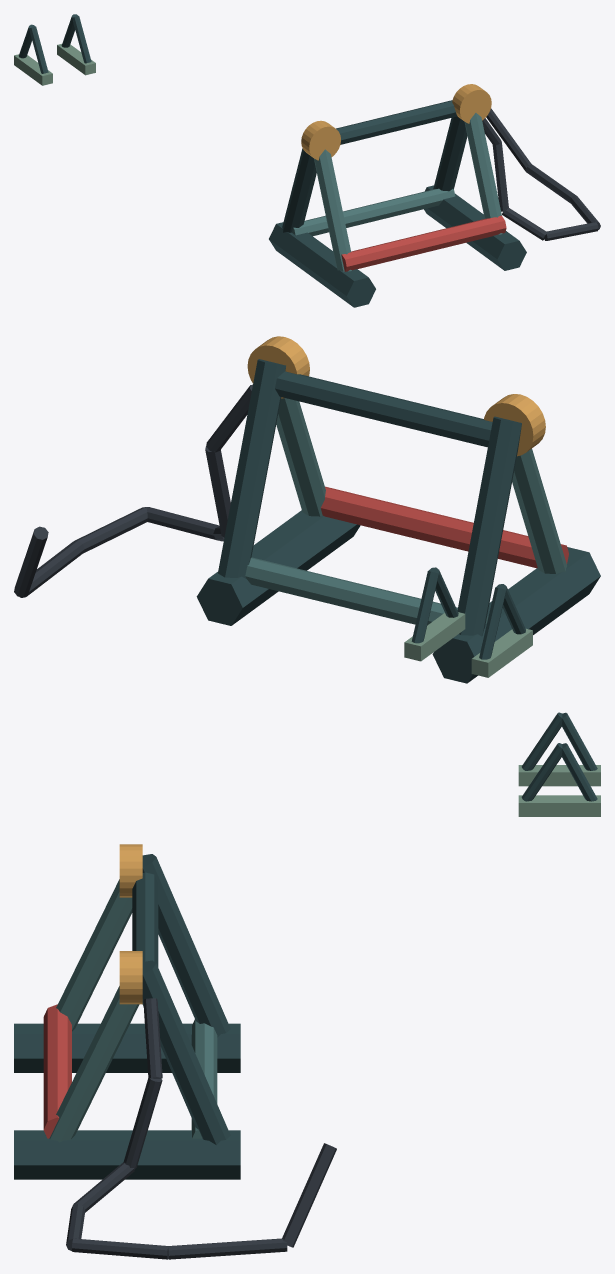
The model's file is RotorCradles.glb.
3 views of the same model, one above another, from view 1: azimuth 30°, elevation 25°; view 2: azimuth 150°, elevation 25°; view 3: azimuth 270°, elevation 25° (orthographic). The views are drawn at different scales.
Parts seen in each view (by area): view 1: RotorCradles; view 2: RotorCradles; view 3: RotorCradles.
Part boxes in pixels (x1=…): RotorCradles: x1=14, y1=14, x2=600, y2=307; RotorCradles: x1=14, y1=336, x2=600, y2=683; RotorCradles: x1=14, y1=712, x2=600, y2=1259.
Bounding box in the file's own units: 2.7 × 1.11 × 2.28.
